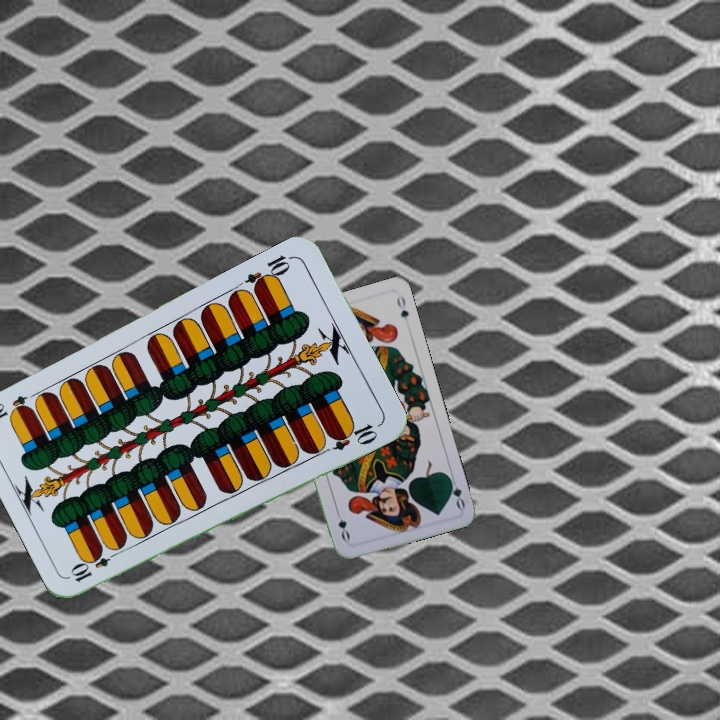E10: (241, 251, 296, 294), (67, 545, 123, 585)
GO: (444, 471, 468, 512)
